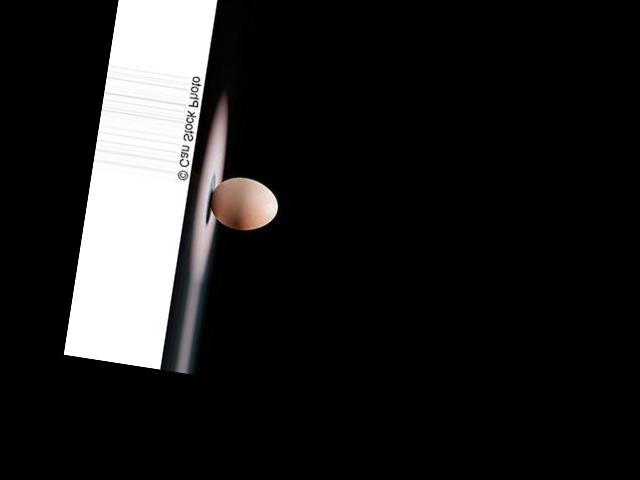egg: (205, 172, 281, 236)
